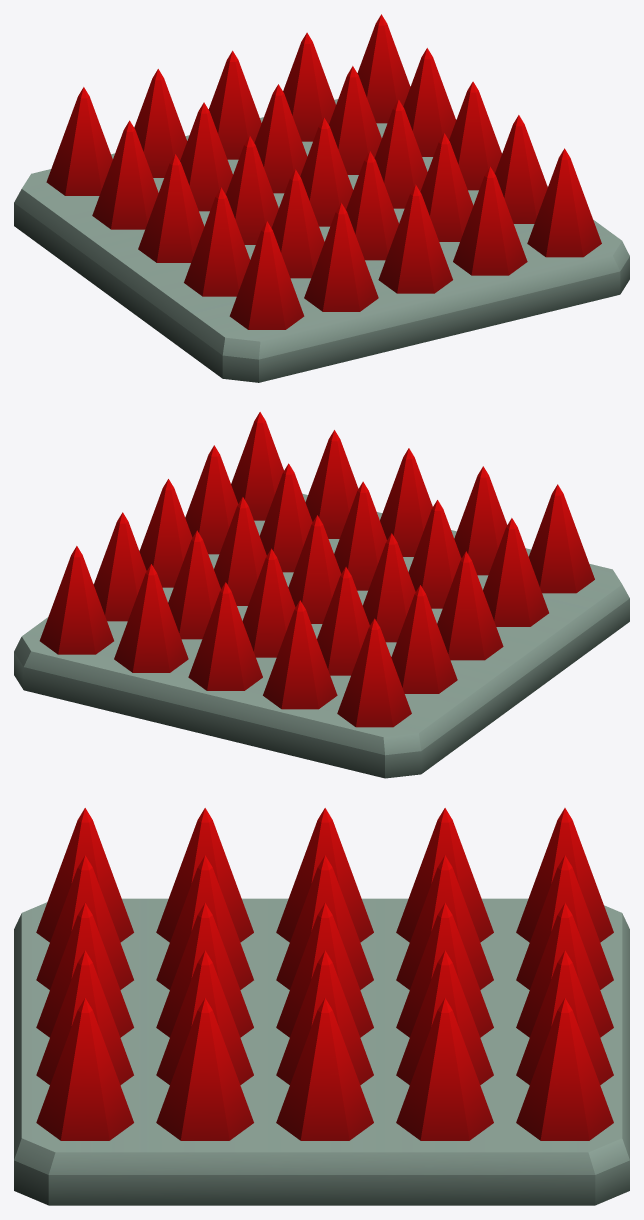
Rendered from hazzard.fbx.
3 views of the same model, one above another, from view 1: azimuth 30°, elevation 25°; view 2: azimuth 150°, elevation 25°; view 3: azimuth 270°, elevation 25° (orthographic). The views are drawn at different scales.
Visible parts, largest first — view 1: hazzard; view 2: hazzard; view 3: hazzard.
Part boxes in pixels (x1=…): hazzard: x1=14, y1=14, x2=629, y2=382; hazzard: x1=14, y1=412, x2=629, y2=778; hazzard: x1=14, y1=808, x2=629, y2=1205.
Bounding box in the file's own units: 241 × 75.57 × 241.
